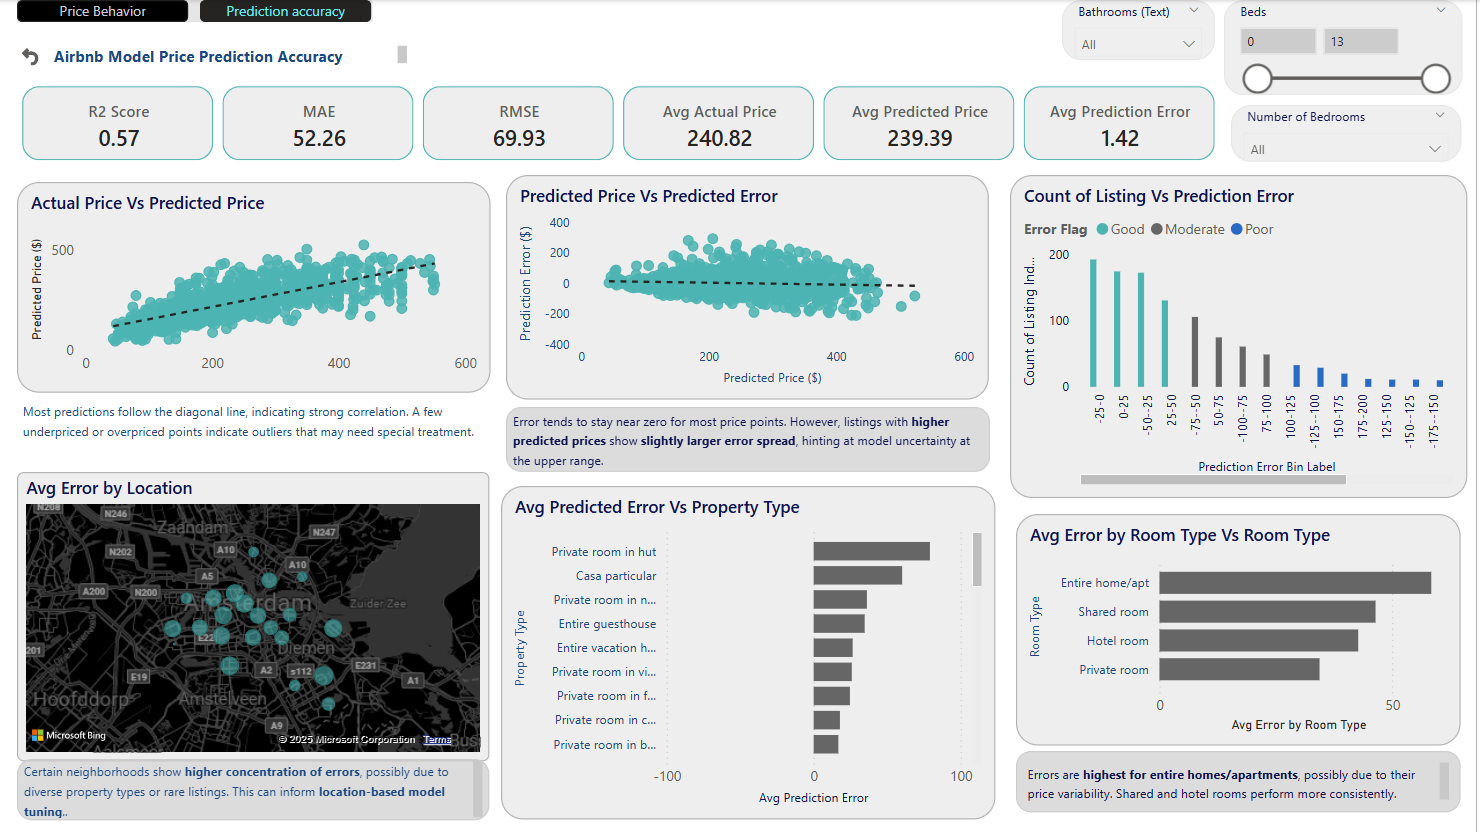

The page's visual inventory and layout, read from the dashboard file:
{"tool":"powerbi","page":{"name":"Prediction accuracy","canvas":[1280,720],"ordinal":1},"visuals":[{"type":"cardVisual","fields":{"Data":["Measure Table.R2 Score","Measure Table.MAE","Measure Table.RMSE","Measure Table.Avg Actual Price","Measure Table.Avg Predicted Price","Measure Table.Avg Prediction Error"]},"box":[23.3,73.4,1031.3,66.5],"z":0},{"type":"scatterChart","title":"Actual Price Vs Predicted Price","fields":{"Y":["SegmentA.Predicted Price ($)"],"X":["SegmentA.Actual Price ($)"]},"box":[19.9,157.2,408.5,182.2],"z":1000},{"type":"clusteredColumnChart","title":"Count of Listing Vs Prediction Error","fields":{"Y":["CountNonNull(SegmentA.Listing Index)"],"Category":["SegmentA.Prediction Error Bin Label"],"Series":["SegmentA.Error Flag"]},"box":[877.5,151.1,394.7,279],"z":2000},{"type":"map","title":"Avg Error by Location ","fields":{"Y":["Avg(SegmentA.Latitude)"],"X":["Avg(SegmentA.Longitude)"],"Category":["SegmentA.Neighbourhood","SegmentA.Property Type"],"Size":["SegmentA.Avg Error by Neighbourhood"]},"box":[19.9,407.7,407.7,249.6],"z":4000},{"type":"clusteredBarChart","title":"Avg  Error by Room Type Vs Room Type","fields":{"Y":["SegmentA.Avg Absolute Error by Room Type"],"Category":["SegmentA.Room Type"]},"box":[882.7,443.9,384.3,199.5],"z":6000},{"type":"clusteredBarChart","title":"Avg Predicted Error Vs Property Type","fields":{"Category":["SegmentA.Property Type"],"Y":["Measure Table.Avg Prediction Error"]},"box":[437.9,419.8,426.7,288.5],"z":8000},{"type":"scatterChart","title":"Predicted Price Vs Predicted Error","fields":{"X":["SegmentA.Predicted Price ($)"],"Y":["SegmentA.Prediction Error ($)"]},"box":[442.2,151.1,417.2,194.3],"z":9000},{"type":"textbox","box":[46.6,34.5,315.2,28.5],"z":11000},{"type":"textbox","box":[19.9,340.3,407.7,46.6],"z":11001},{"type":"textbox","box":[442.2,351.5,418,56.1],"z":11003},{"type":"textbox","box":[19.9,655.5,407.7,52.7],"z":11005},{"type":"textbox","box":[882.7,648.6,384.3,52.7],"z":11006},{"type":"pageNavigator","box":[19.9,0,307.5,19],"z":11007},{"type":"actionButton","box":[19.9,35.4,23.3,27.6],"z":11008},{"type":"slicer","fields":{"Values":["SegmentA.Bathrooms (Text)"]},"box":[922.4,0,132.1,51.8],"z":11009},{"type":"slicer","fields":{"Values":["SegmentA.Beds"]},"box":[1062.3,0,205.6,82.1],"z":11010},{"type":"slicer","fields":{"Values":["SegmentA.Number of Bedrooms"]},"box":[1068.4,90.7,198.7,49.2],"z":11011}]}

Visuals, with their boxes in screenshot pixels (x1, y1, x2, y2), scaled from the page's 1280x720 canvas onto the 1480x832 screenshot:
cardVisual - Measure Table.R2 Score x Measure Table.MAE: rect(27, 85, 1219, 162)
"Actual Price Vs Predicted Price" scatterChart: rect(23, 182, 495, 392)
"Count of Listing Vs Prediction Error" clusteredColumnChart: rect(1015, 175, 1471, 497)
"Avg Error by Location " map: rect(23, 471, 494, 760)
"Avg  Error by Room Type Vs Room Type" clusteredBarChart: rect(1021, 513, 1465, 743)
"Avg Predicted Error Vs Property Type" clusteredBarChart: rect(506, 485, 1000, 818)
"Predicted Price Vs Predicted Error" scatterChart: rect(511, 175, 994, 399)
textbox: rect(54, 40, 418, 73)
textbox: rect(23, 393, 494, 447)
textbox: rect(511, 406, 995, 471)
textbox: rect(23, 757, 494, 818)
textbox: rect(1021, 749, 1465, 810)
pageNavigator: rect(23, 0, 379, 22)
actionButton: rect(23, 41, 50, 73)
slicer - SegmentA.Bathrooms (Text): rect(1067, 0, 1219, 60)
slicer - SegmentA.Beds: rect(1228, 0, 1466, 95)
slicer - SegmentA.Number of Bedrooms: rect(1235, 105, 1465, 162)
